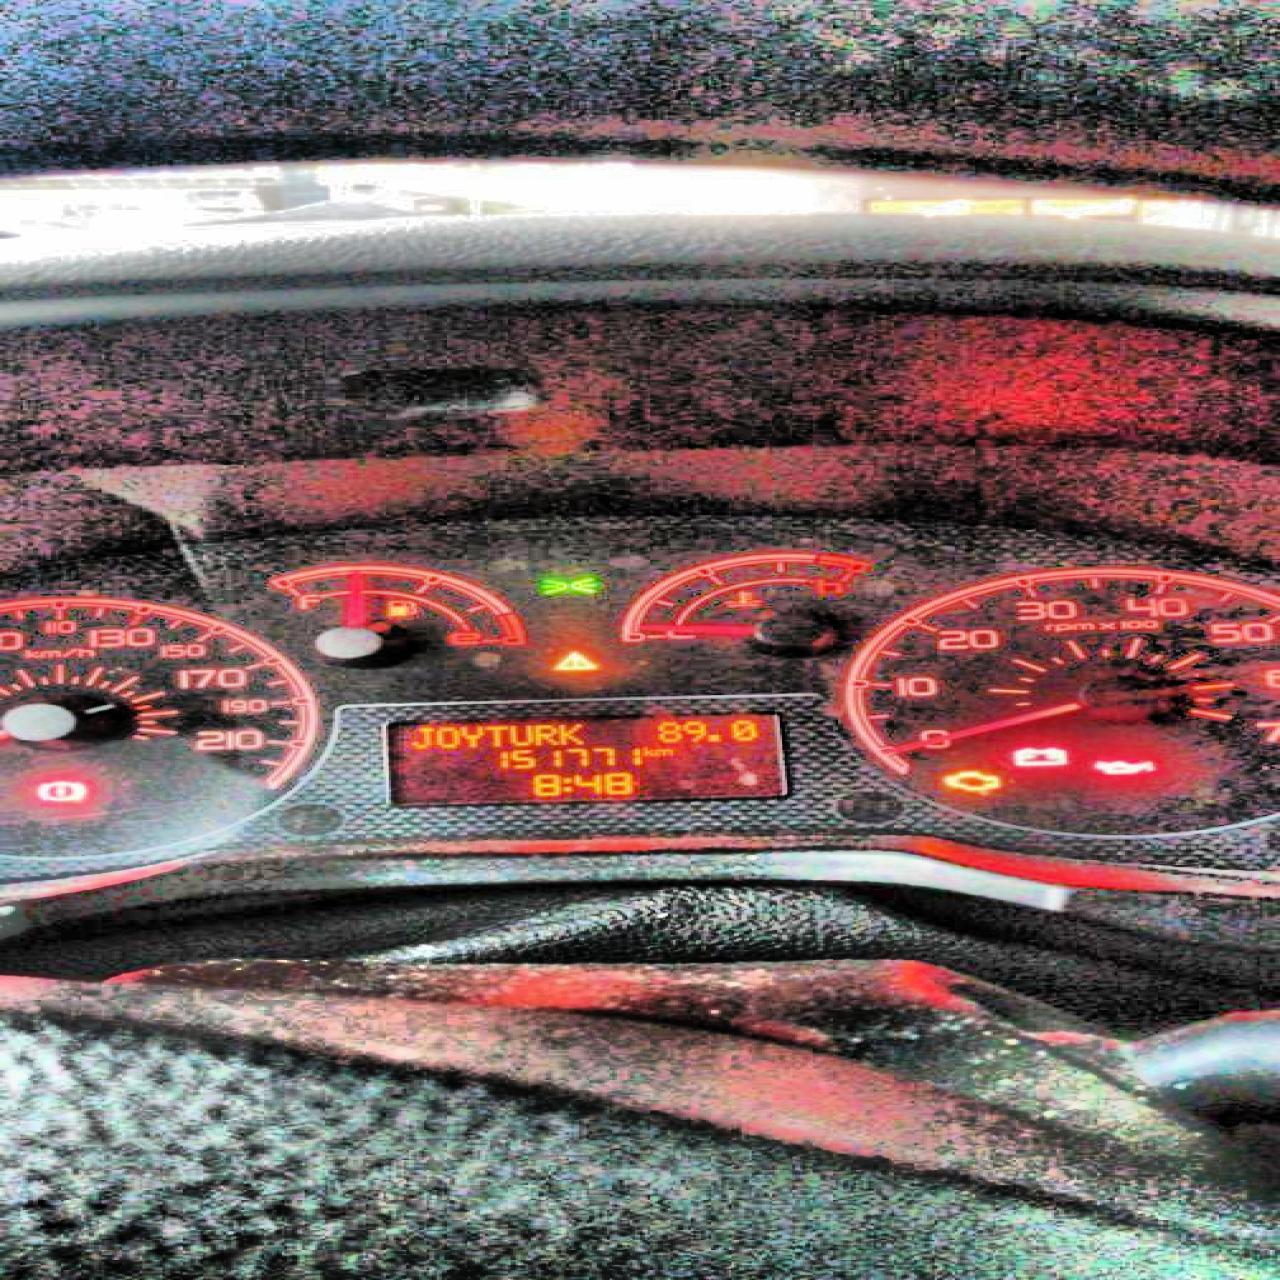-: (703, 733, 723, 742)
0: (727, 717, 757, 741)
1: (549, 748, 561, 768), (629, 745, 640, 765), (498, 749, 508, 769)
4: (571, 772, 601, 794)
5: (508, 749, 536, 769)
7: (588, 745, 617, 765), (564, 745, 586, 765)
8: (529, 772, 561, 797), (601, 771, 632, 795), (655, 720, 681, 742)
9: (681, 719, 703, 742)
X: (457, 723, 483, 748), (556, 722, 584, 743), (434, 723, 457, 748), (505, 723, 531, 745), (531, 723, 557, 745), (409, 727, 433, 748), (483, 724, 505, 745), (559, 775, 571, 792), (653, 745, 673, 755), (640, 745, 653, 756)
odometer: (373, 710, 795, 811)
